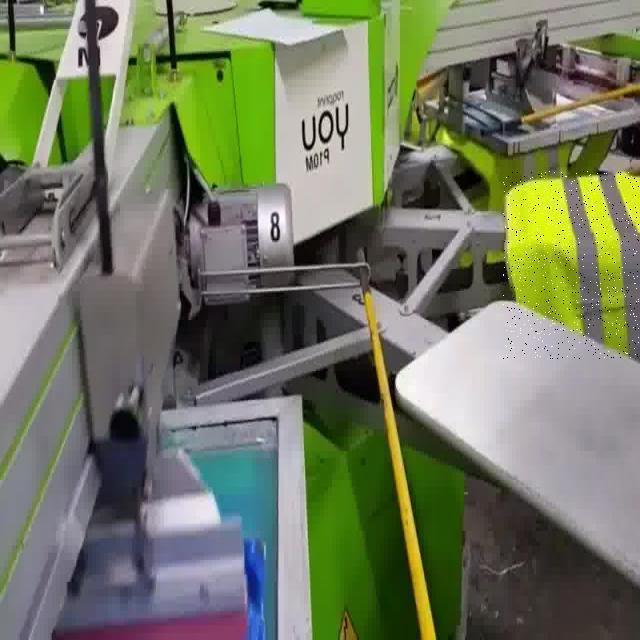safety_vest: (503, 171, 639, 359)
